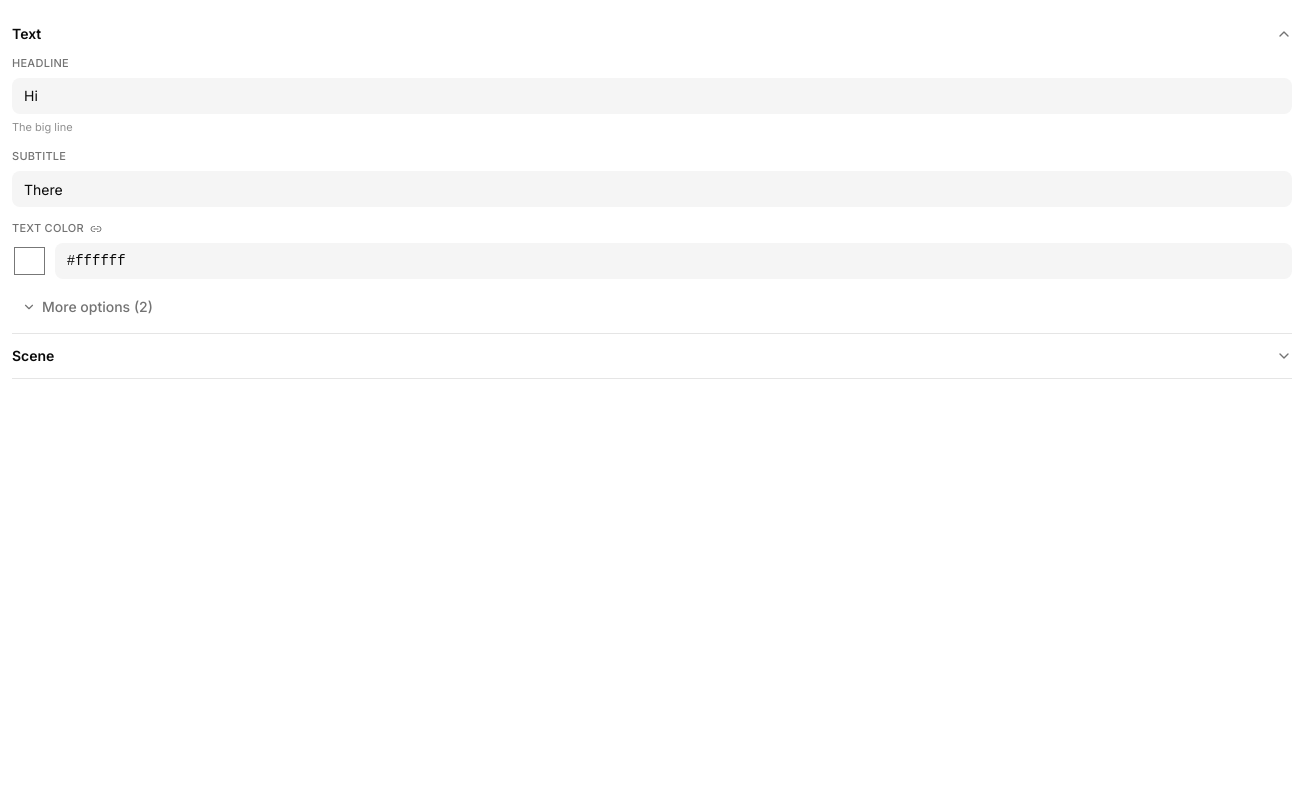
Test: PropertiesPanel › opens the first section and keeps later sections collapsed
expect the text "Headline" is shown: met, box [12,56,69,70]
expect the text "The big line" is shown: met, box [12,120,73,134]
What coordinates should you click on to do the following:
click the button "Scene"
I would click on:
 (33, 355)
Its box is [12,334,1292,378].
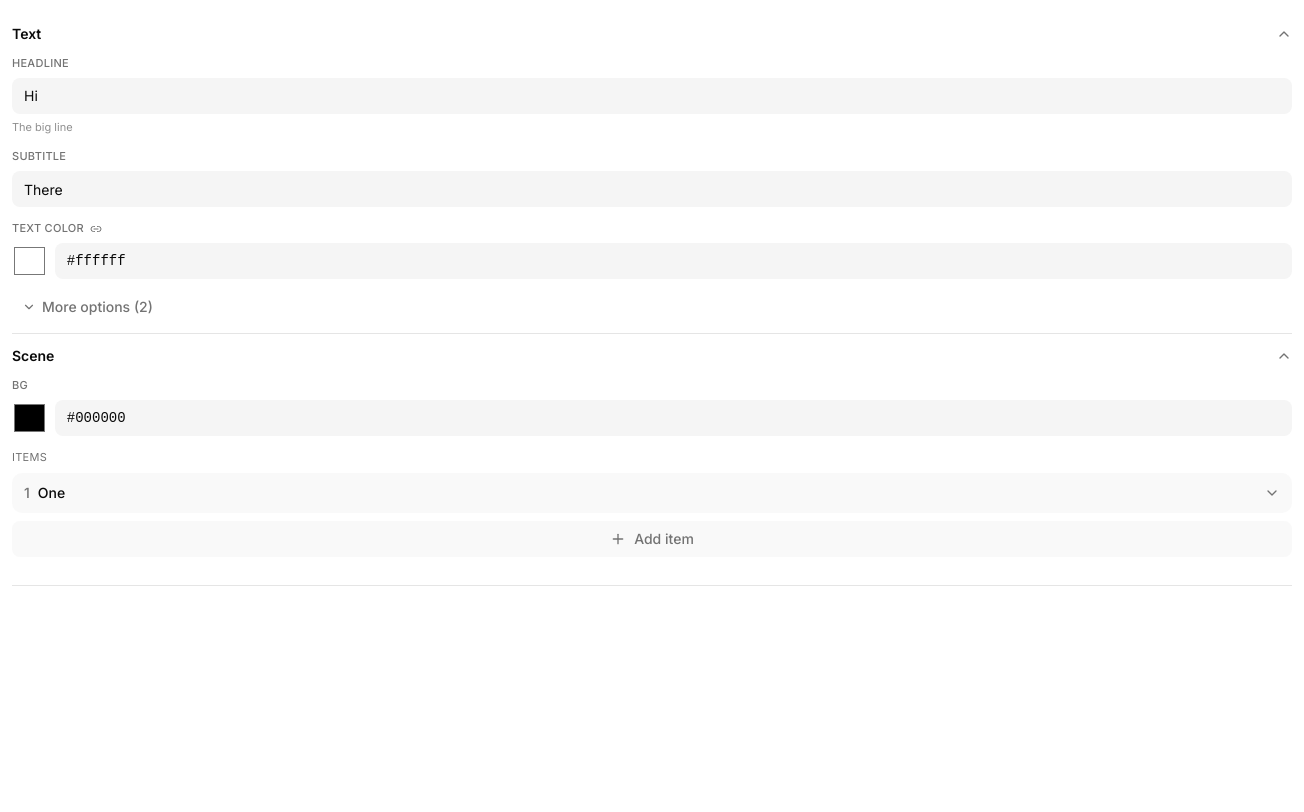
expect the text "Bg" is shown: met, box [12,378,28,392]
